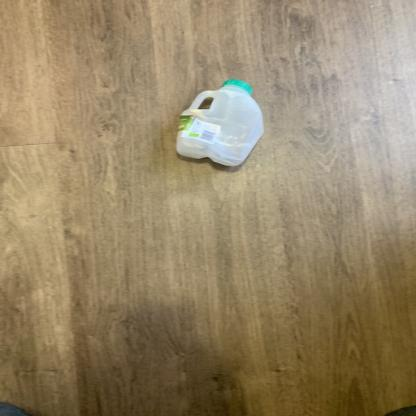trash: (174, 78, 266, 170)
